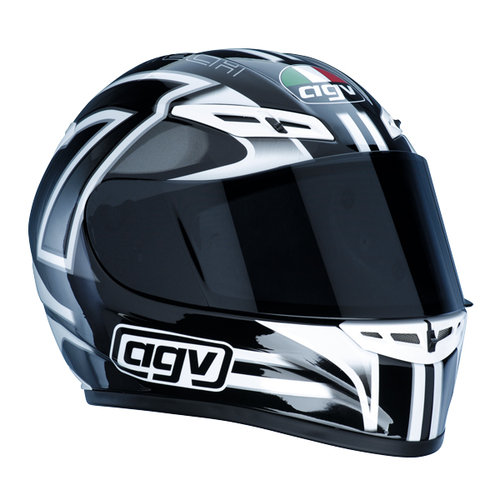helmet: (40, 58, 488, 462)
